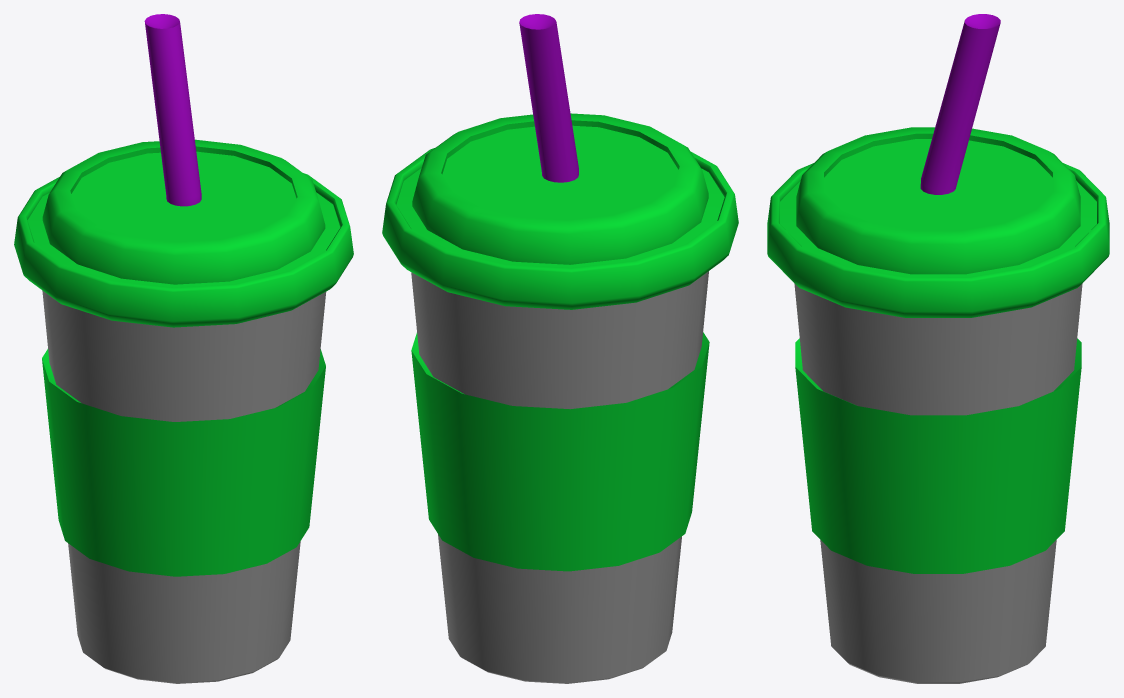
Rendered from SM_Drink.FBX.
3 views of the same model, side by side, from view 1: azimuth 30°, elevation 25°; view 2: azimuth 150°, elevation 25°; view 3: azimuth 270°, elevation 25° (orthographic). The views are drawn at different scales.
Parts seen in each view (by area): view 1: Drink_Cup; view 2: Drink_Cup; view 3: Drink_Cup.
Boxes of the visible parts, x1,y1,x2,y2 form: Drink_Cup: [14, 14, 353, 683]; Drink_Cup: [382, 14, 738, 683]; Drink_Cup: [767, 14, 1109, 683].
Bounding box in the file's own units: 0.2161 × 0.4301 × 0.2161.
